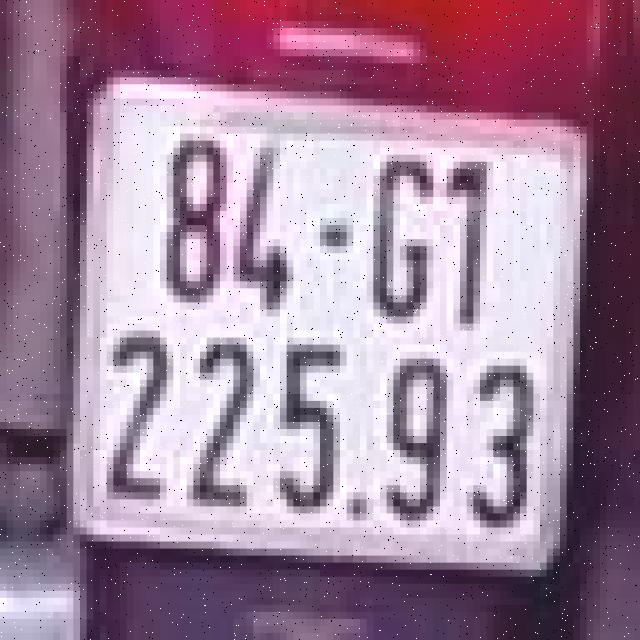1: (447, 154, 493, 338)
2: (187, 327, 260, 517), (107, 316, 180, 499)
3: (467, 355, 540, 538)
4: (237, 134, 303, 316)
5: (274, 338, 354, 520)
8: (160, 126, 227, 302)
9: (380, 352, 453, 520)
G: (367, 151, 433, 327)
